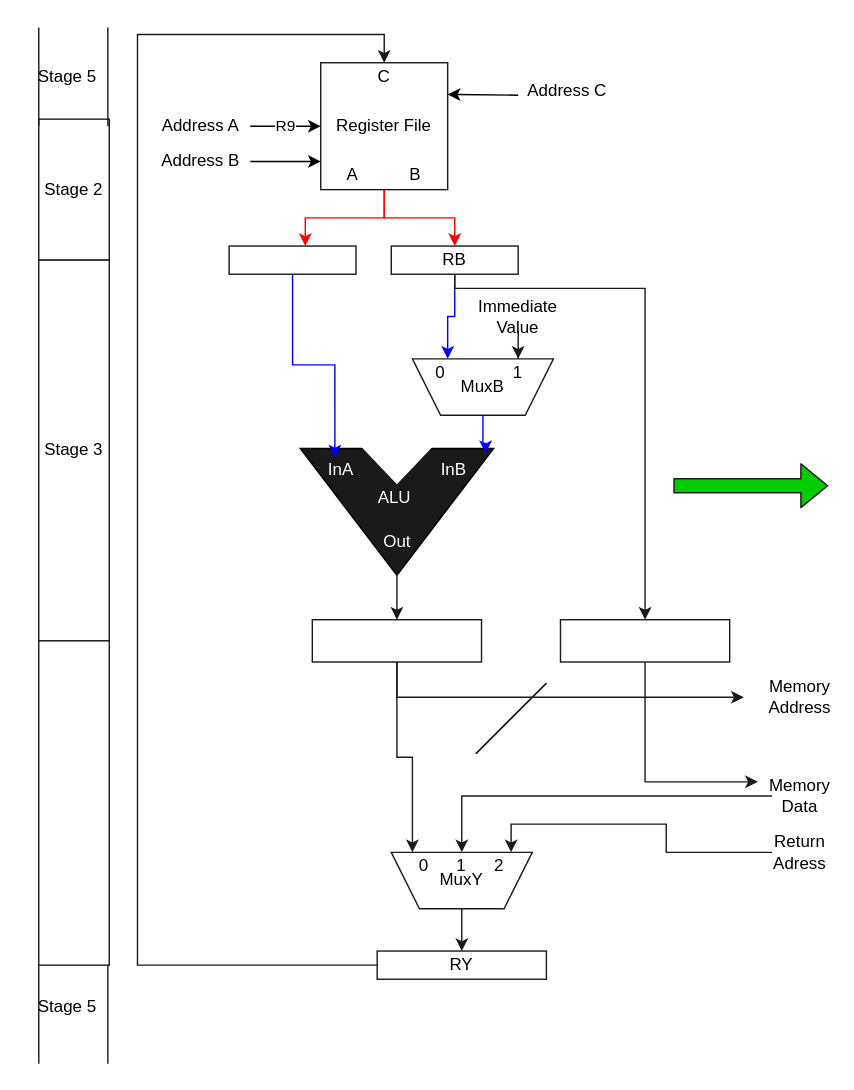
The diagram is 854 pixels wide and 1090 high, and some of its shapes have lost their labels. The shapes that lost their labels are listed below. From the top down, each one's centre as x and y in pixels, then its label:
At (292,259): "RA".
At (396,640): "RZ".
At (644,640): "RM".
At (73,802): "Stage 4".
